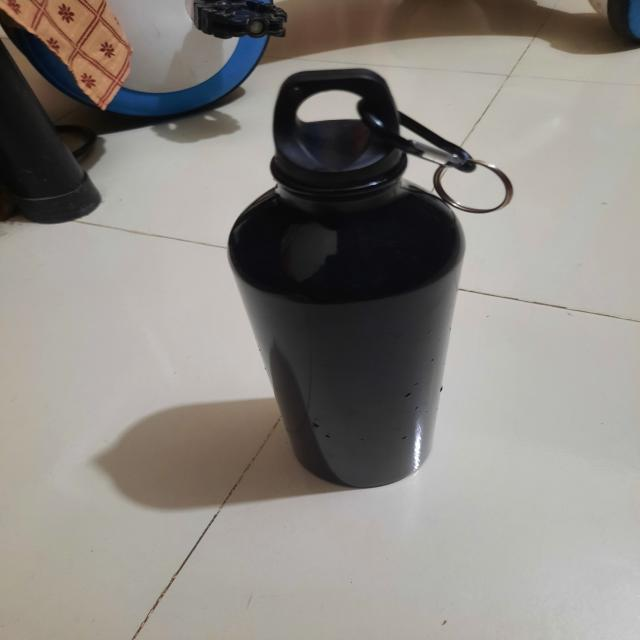can: (181, 61, 503, 494)
